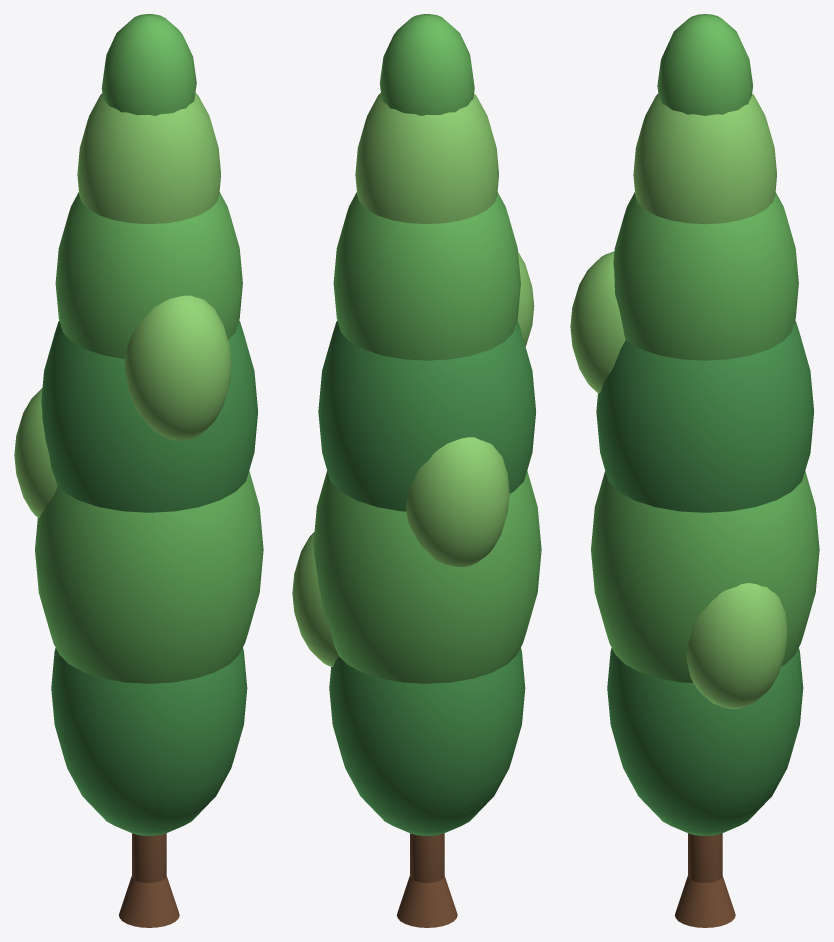
The model's file is tree_poplar.glb.
The picture shows the model from 3 angles, left to right: view 1: azimuth 30°, elevation 25°; view 2: azimuth 150°, elevation 25°; view 3: azimuth 270°, elevation 25°; orthographic projection.
Parts seen in each view (by area): view 1: tree_poplar; view 2: tree_poplar; view 3: tree_poplar.
Boxes of the visible parts, x1=… form: tree_poplar: x1=14, y1=14, x2=263, y2=927; tree_poplar: x1=292, y1=14, x2=541, y2=927; tree_poplar: x1=570, y1=14, x2=819, y2=927.
Size of the model in its own units: 2.28 by 9.1 by 2.29.
